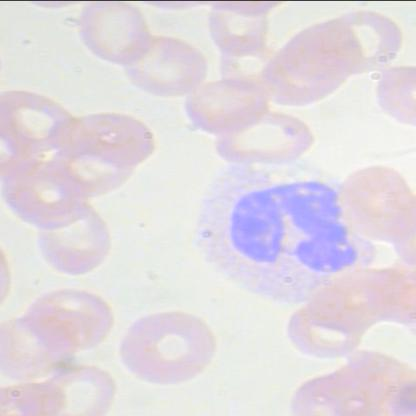RBC: (115, 298, 228, 392), (34, 193, 114, 277), (180, 72, 268, 136), (119, 34, 207, 98), (73, 1, 154, 70)
WBC: (188, 140, 390, 309)
